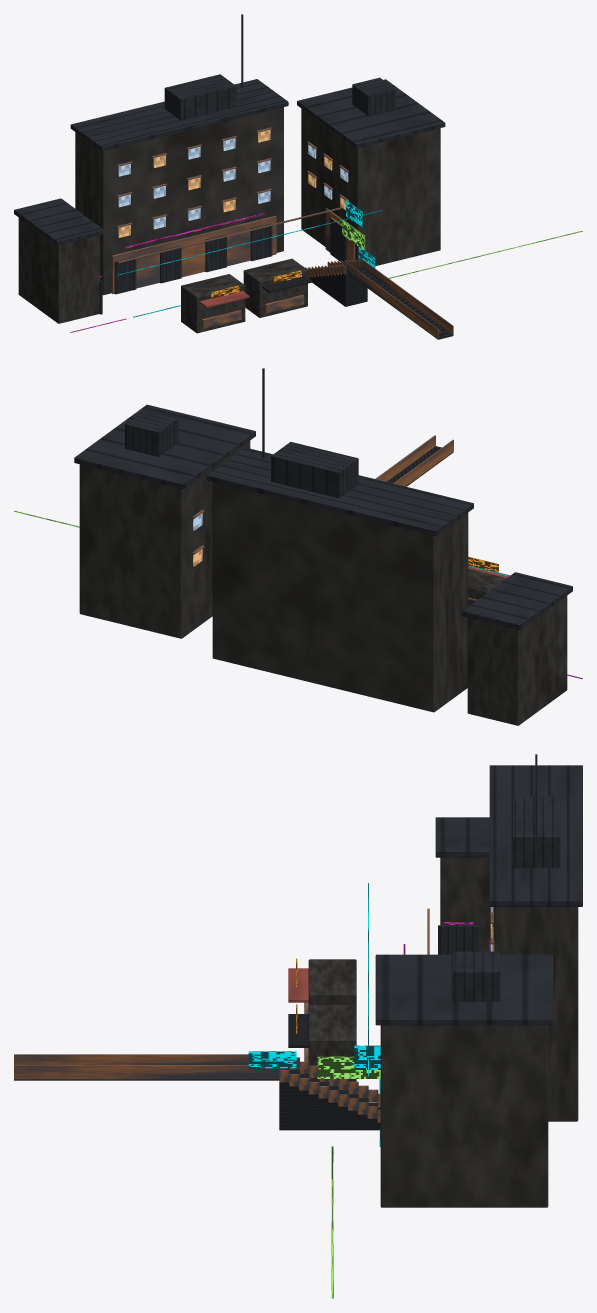
The model's file is Hesperus_AlienBar_EastBacklot.glb.
The picture shows the model from 3 angles, top to bottom: view 1: azimuth 30°, elevation 25°; view 2: azimuth 150°, elevation 25°; view 3: azimuth 270°, elevation 25°; orthographic projection. The views are drawn at different scales.
Parts seen in each view (by area): view 1: ABL_NorthWorker_Mass, ABL_EastRepair_Mass, ABL_BarAnnex_Mass, ABL_NorthWorker_Roof, ABL_EastRepair_Roof, ABL_NorthWorker_ServiceBand, ABL_NorthWorker_RoofPlant, ABL_BarAnnex_Roof, ABL_FoodStall_Mass, ABL_PartsStall_Mass, ABL_EastRepair_RoofTank, ABL_UpperBridgeRailL (+12 smaller); view 2: ABL_NorthWorker_Mass, ABL_EastRepair_Mass, ABL_BarAnnex_Mass, ABL_NorthWorker_Roof, ABL_EastRepair_Roof, ABL_NorthWorker_RoofPlant, ABL_BarAnnex_Roof, ABL_EastRepair_RoofTank, ABL_FoodStall_Mass, ABL_UpperBridgeRailL, ABL_UpperBridgeRailR; view 3: ABL_EastRepair_Mass, ABL_EastRepair_Roof, ABL_NorthWorker_Roof, ABL_NorthWorker_Mass, ABL_UpperBridgeRailR, ABL_BarAnnex_Mass, ABL_NorthWorker_RoofPlant, ABL_PartsStall_Mass, ABL_UpperBridgeRailL, ABL_EastRepair_RoofTank, ABL_FoodStall_Mass, ABL_BarAnnex_Roof (+5 smaller).
Boxes of the visible parts, x1=… form: ABL_NorthWorker_Mass: x1=75, y1=107, x2=283, y2=295; ABL_EastRepair_Mass: x1=301, y1=108, x2=440, y2=265; ABL_BarAnnex_Mass: x1=18, y1=218, x2=99, y2=323; ABL_NorthWorker_Roof: x1=70, y1=79, x2=288, y2=151; ABL_EastRepair_Roof: x1=297, y1=79, x2=445, y2=148; ABL_NorthWorker_ServiceBand: x1=112, y1=216, x2=276, y2=293; ABL_NorthWorker_RoofPlant: x1=164, y1=74, x2=236, y2=120; ABL_BarAnnex_Roof: x1=14, y1=198, x2=104, y2=245; ABL_FoodStall_Mass: x1=181, y1=274, x2=245, y2=333; ABL_PartsStall_Mass: x1=243, y1=258, x2=307, y2=317; ABL_EastRepair_RoofTank: x1=352, y1=77, x2=395, y2=115; ABL_UpperBridgeRailL: x1=347, y1=263, x2=438, y2=338; ABL_NorthWorker_Mass: x1=212, y1=482, x2=468, y2=712; ABL_EastRepair_Mass: x1=79, y1=440, x2=250, y2=638; ABL_BarAnnex_Mass: x1=467, y1=596, x2=567, y2=725; ABL_NorthWorker_Roof: x1=207, y1=447, x2=473, y2=536; ABL_EastRepair_Roof: x1=74, y1=404, x2=255, y2=489; ABL_NorthWorker_RoofPlant: x1=271, y1=442, x2=358, y2=498; ABL_BarAnnex_Roof: x1=462, y1=572, x2=572, y2=629; ABL_EastRepair_RoofTank: x1=125, y1=409, x2=178, y2=456; ABL_FoodStall_Mass: x1=468, y1=569, x2=506, y2=605; ABL_UpperBridgeRailL: x1=393, y1=439, x2=453, y2=486; ABL_UpperBridgeRailR: x1=375, y1=435, x2=435, y2=481; ABL_EastRepair_Mass: x1=380, y1=1025, x2=548, y2=1207; ABL_EastRepair_Roof: x1=375, y1=954, x2=552, y2=1025; ABL_NorthWorker_Roof: x1=489, y1=765, x2=582, y2=906; ABL_NorthWorker_Mass: x1=494, y1=907, x2=578, y2=1121; ABL_UpperBridgeRailR: x1=14, y1=1065, x2=284, y2=1079; ABL_BarAnnex_Mass: x1=440, y1=857, x2=494, y2=951; ABL_NorthWorker_RoofPlant: x1=512, y1=796, x2=560, y2=868; ABL_PartsStall_Mass: x1=308, y1=1005, x2=356, y2=1081; ABL_UpperBridgeRailL: x1=14, y1=1054, x2=248, y2=1064; ABL_EastRepair_RoofTank: x1=452, y1=951, x2=500, y2=1001; ABL_FoodStall_Mass: x1=308, y1=959, x2=356, y2=1005; ABL_BarAnnex_Roof: x1=435, y1=817, x2=489, y2=857.
Bounding box in the file's own units: 70.4 × 32 × 47.5.
11 materials, 11 textured.
